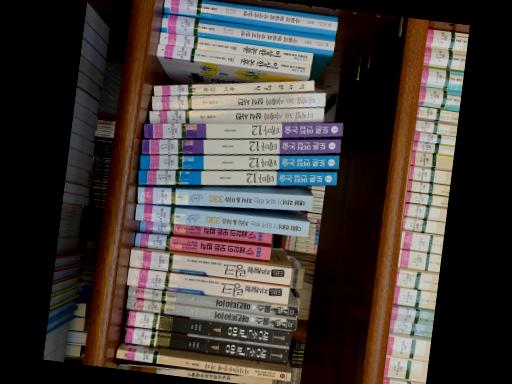book-spine: (160, 14, 334, 55), (162, 0, 337, 36), (125, 267, 289, 304), (123, 310, 291, 346), (121, 327, 289, 363), (115, 349, 290, 382), (134, 204, 308, 237), (129, 249, 291, 284), (126, 298, 295, 330), (127, 287, 297, 317), (158, 31, 312, 64), (155, 44, 310, 76), (136, 187, 312, 211), (134, 232, 270, 261), (140, 221, 271, 244), (143, 123, 342, 138), (138, 171, 336, 186), (148, 107, 323, 123), (139, 155, 339, 169), (141, 140, 340, 154), (151, 93, 325, 109), (152, 80, 314, 95)
